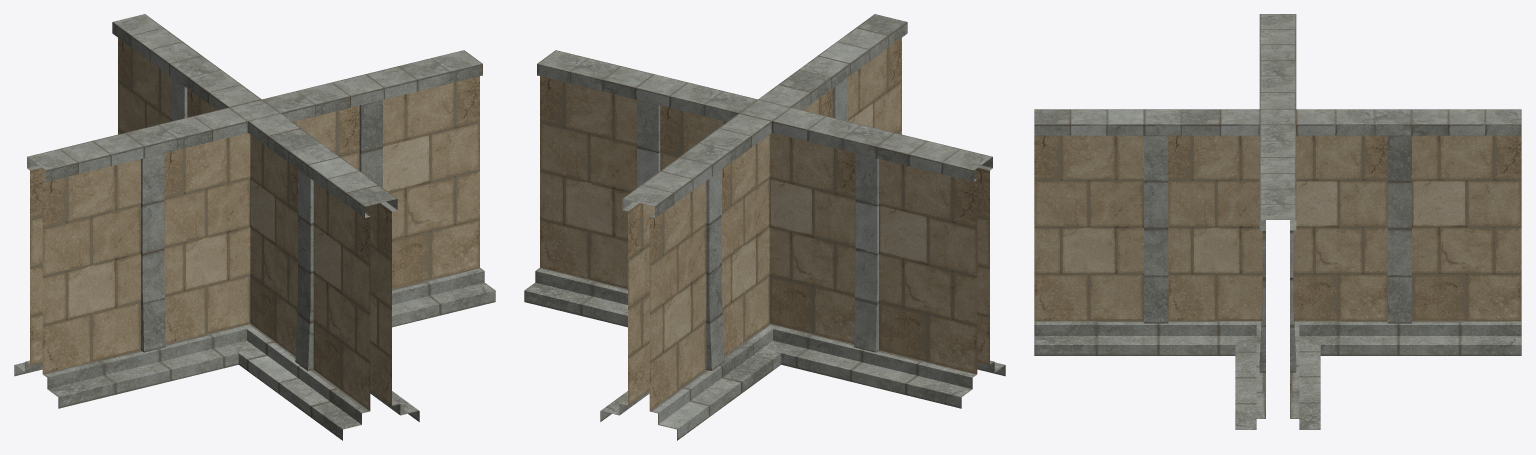
Rendered from wall_X_junction.fbx.
3 views of the same model, side by side, from view 1: azimuth 30°, elevation 25°; view 2: azimuth 150°, elevation 25°; view 3: azimuth 270°, elevation 25° (orthographic). The views are drawn at different scales.
Visible parts, largest first — view 1: wall_X_junction; view 2: wall_X_junction; view 3: wall_X_junction.
Part boxes in pixels (x1,y1,x2,y2): wall_X_junction: [14, 14, 495, 440]; wall_X_junction: [524, 14, 1005, 440]; wall_X_junction: [1034, 14, 1521, 429].
Bounding box in the file's own units: 400 × 200 × 400.
